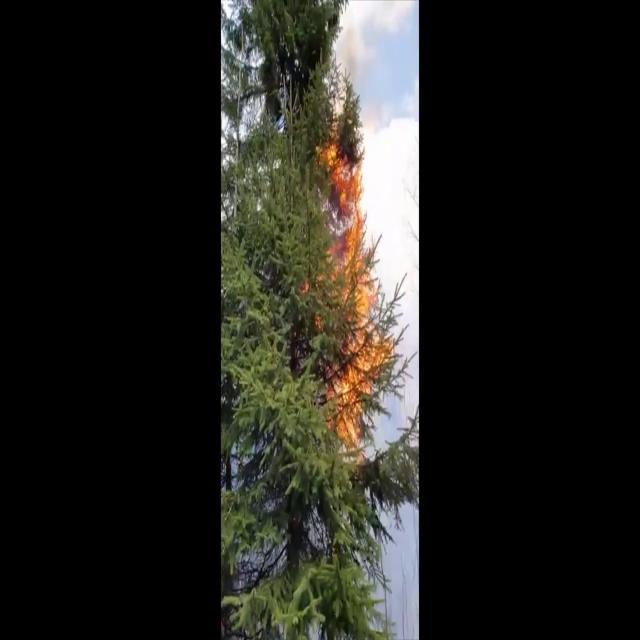Fire: (308, 125, 388, 462)
